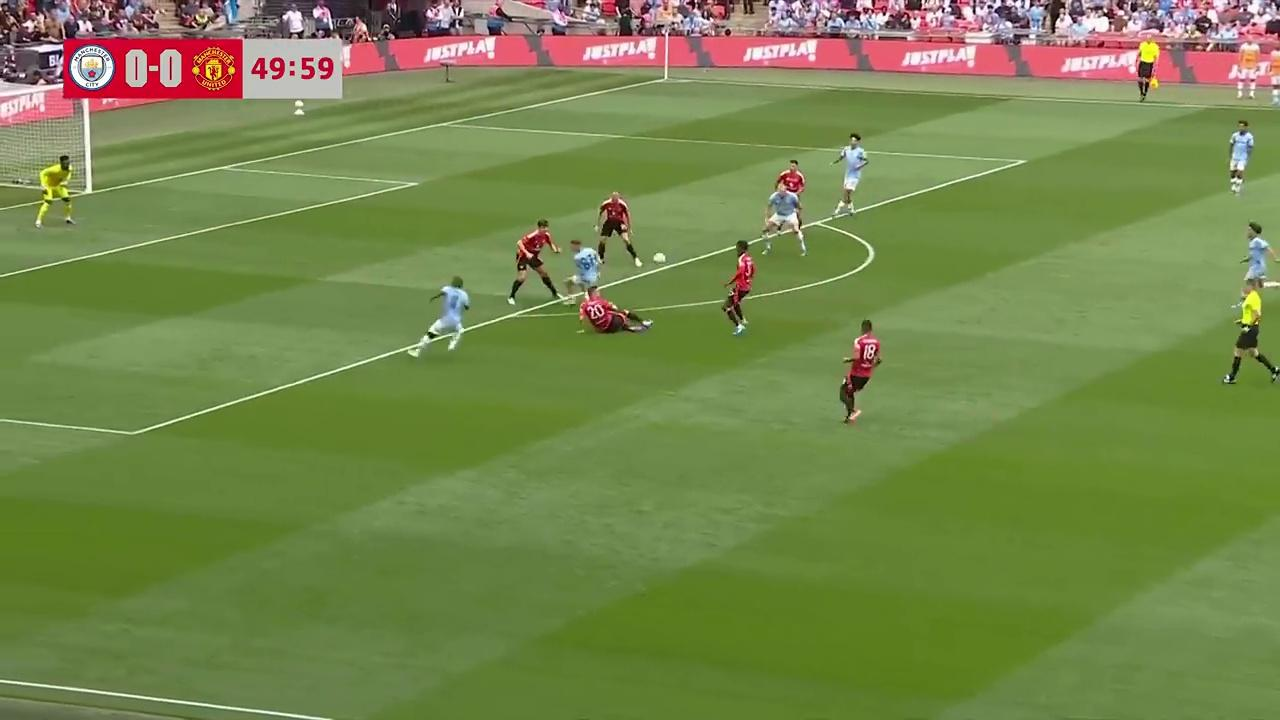ball: (652, 248, 666, 264)
player: (508, 218, 564, 305), (411, 275, 470, 356), (839, 319, 882, 424), (760, 176, 807, 256), (595, 190, 642, 267), (577, 289, 647, 336), (830, 133, 868, 219), (34, 154, 76, 228), (563, 238, 600, 322), (723, 240, 756, 334), (34, 155, 76, 228), (773, 158, 807, 243), (1243, 222, 1279, 290), (1228, 119, 1254, 196)
referee: (1221, 277, 1276, 386), (1136, 32, 1164, 103)
